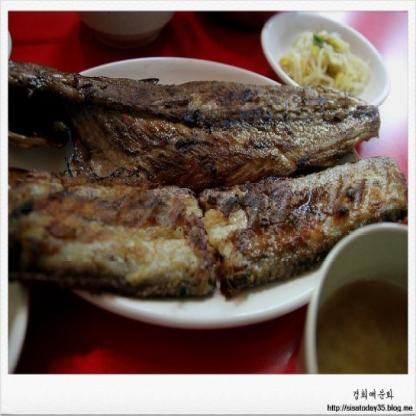Peixe: (9, 58, 409, 293), (0, 148, 412, 301), (2, 88, 382, 172)
